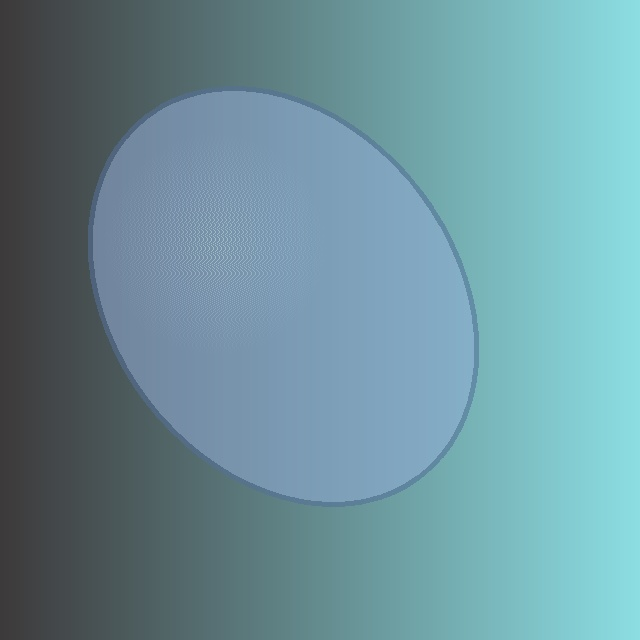lens: (90, 88, 476, 504)
